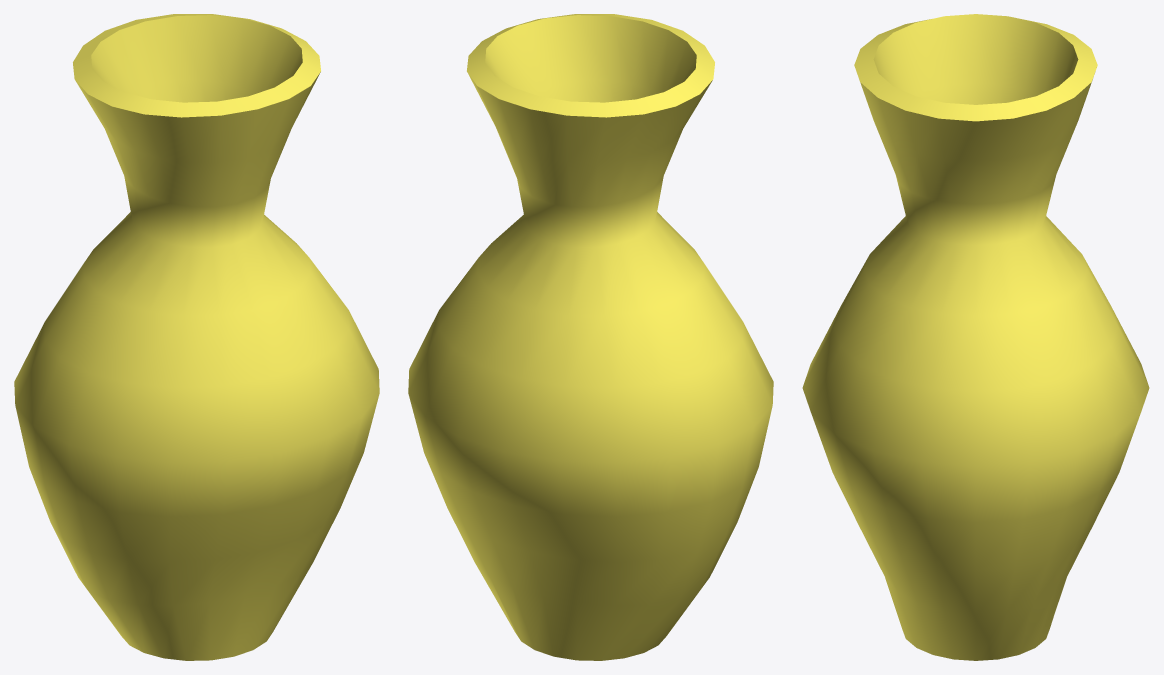
Rendered from gvase.fbx.
3 views of the same model, side by side, from view 1: azimuth 30°, elevation 25°; view 2: azimuth 150°, elevation 25°; view 3: azimuth 270°, elevation 25° (orthographic).
Visible parts, largest first — view 1: pCylinder1; view 2: pCylinder1; view 3: pCylinder1.
Part boxes in pixels (x1=…): pCylinder1: x1=14, y1=14, x2=379, y2=660; pCylinder1: x1=408, y1=14, x2=773, y2=660; pCylinder1: x1=802, y1=14, x2=1149, y2=660.
Size of what is drawn, in the model's own units: 1.86 by 3.11 by 1.72.
